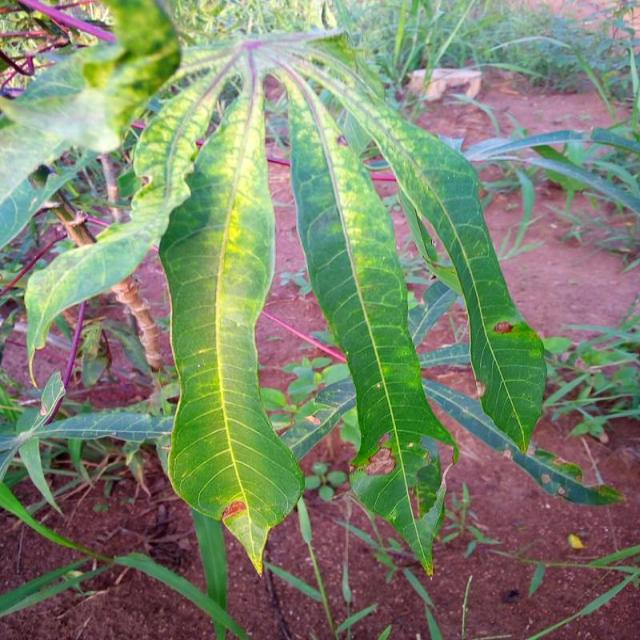cassava leaf: (272, 53, 458, 575), (157, 79, 306, 576)
